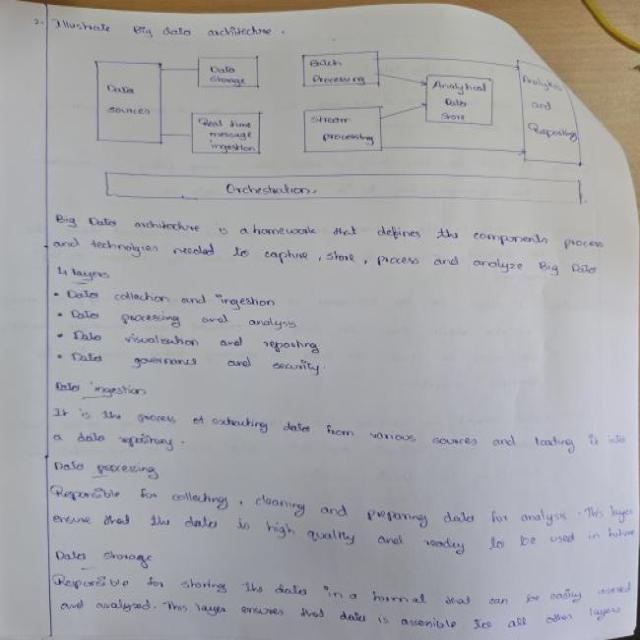Figure Detection - v3 Dataset Version2: (69, 40, 609, 220)
